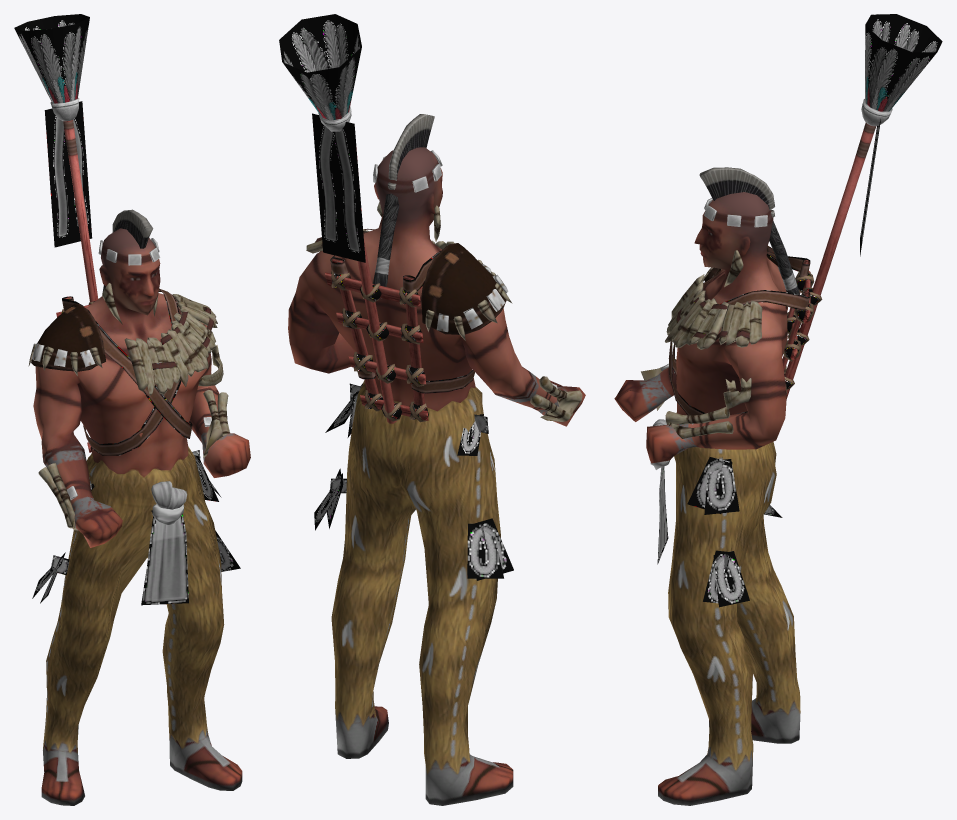
File: body-mediumgreattemplesoldiers.glb
The picture shows the model from 3 angles, left to right: view 1: azimuth 30°, elevation 25°; view 2: azimuth 150°, elevation 25°; view 3: azimuth 270°, elevation 25°; orthographic projection. The views are drawn at different scales.
Size of the model in its own units: 0.8461 by 2.85 by 1.14.
3 materials, 3 textured.
